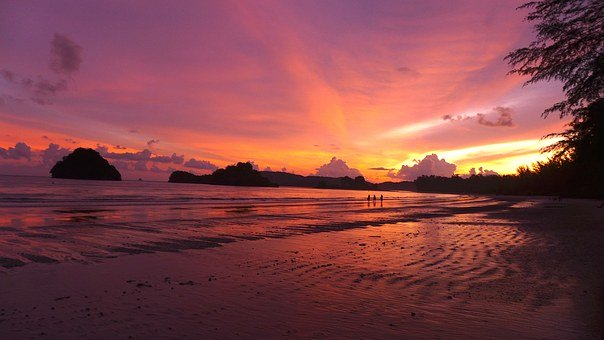beach: (8, 173, 602, 340)
sky: (13, 1, 538, 174)
